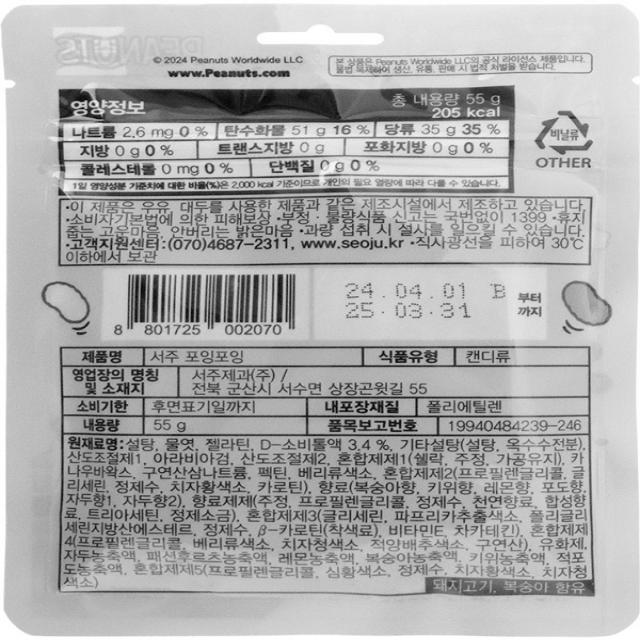Nutrition Label: (53, 82, 528, 200)
